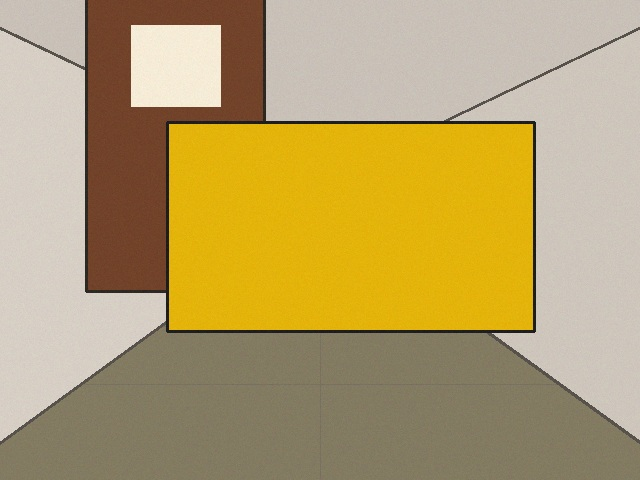directional_sign: (180, 122, 297, 181)
door: (86, 0, 264, 291)
forklift: (167, 0, 534, 331)
